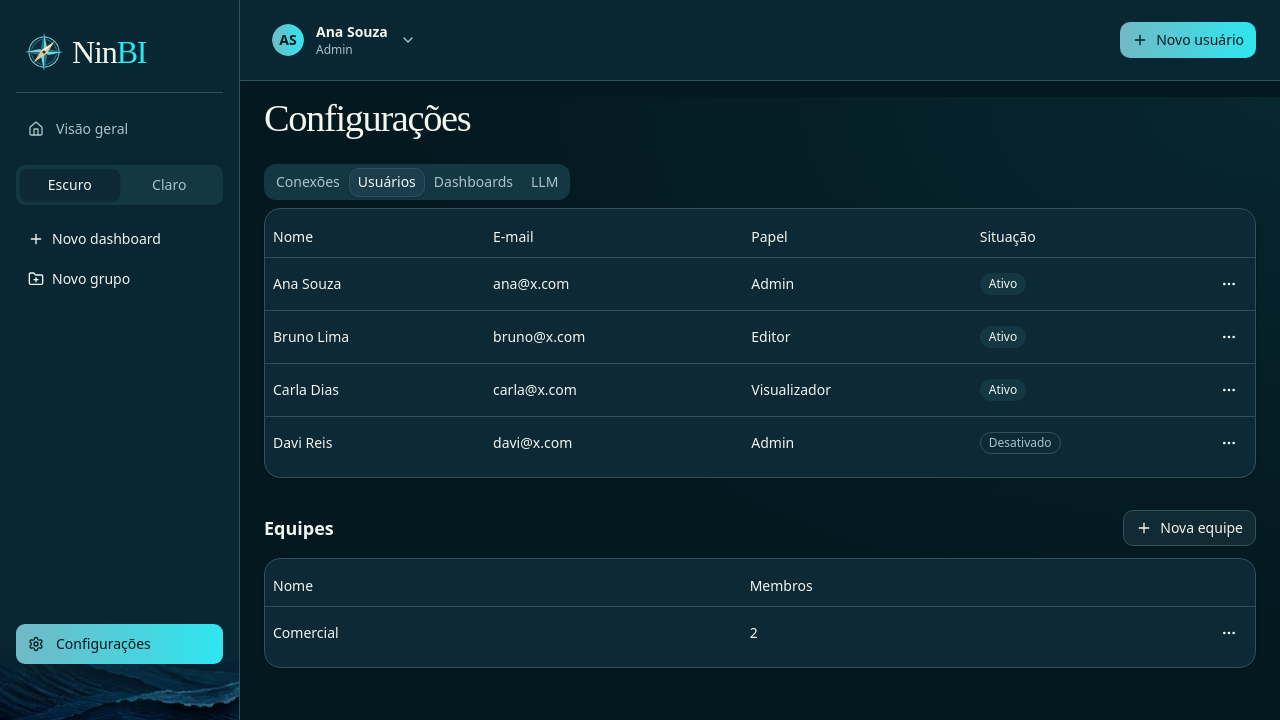
Test case: TeamDialog › TEAM-05 Editar equipe envia os membros marcados
Click the button named "Ações da equipe Comercial".
click(1229, 633)  # box top-left (1211, 615), bottom-right (1247, 651)
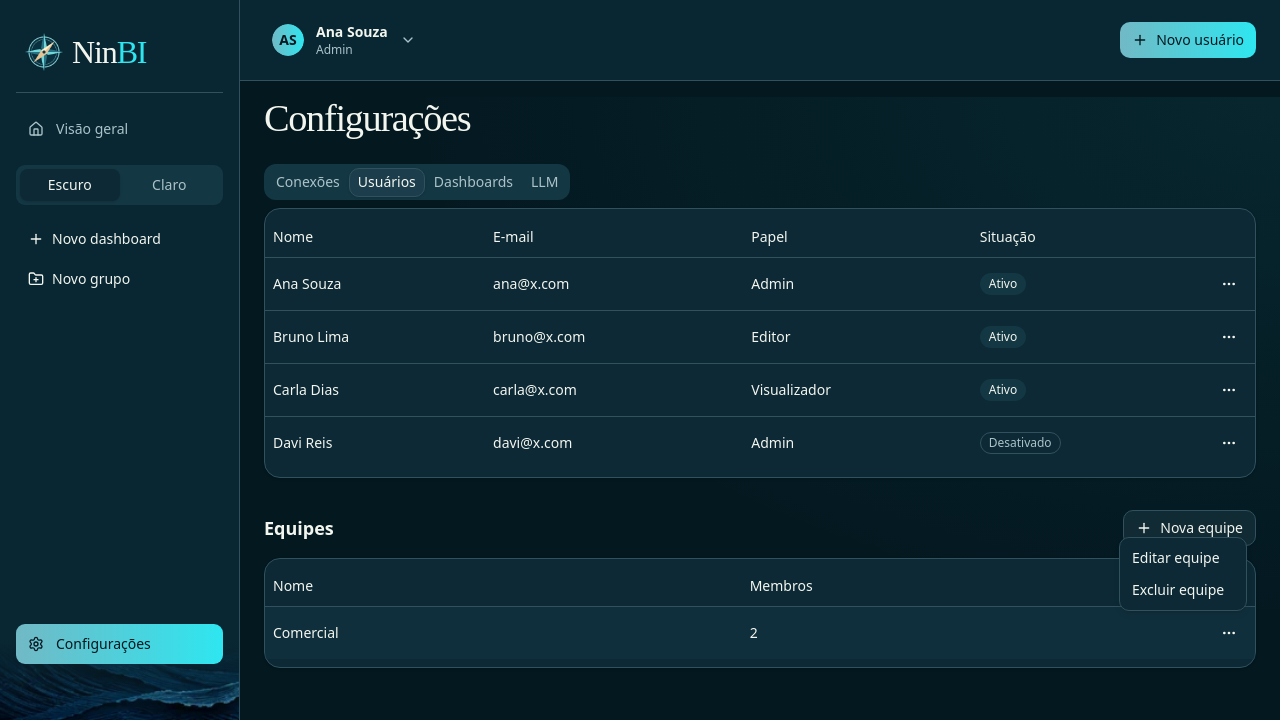
Click the menu item "Editar equipe".
click(1176, 558)  # box top-left (1132, 548), bottom-right (1220, 567)
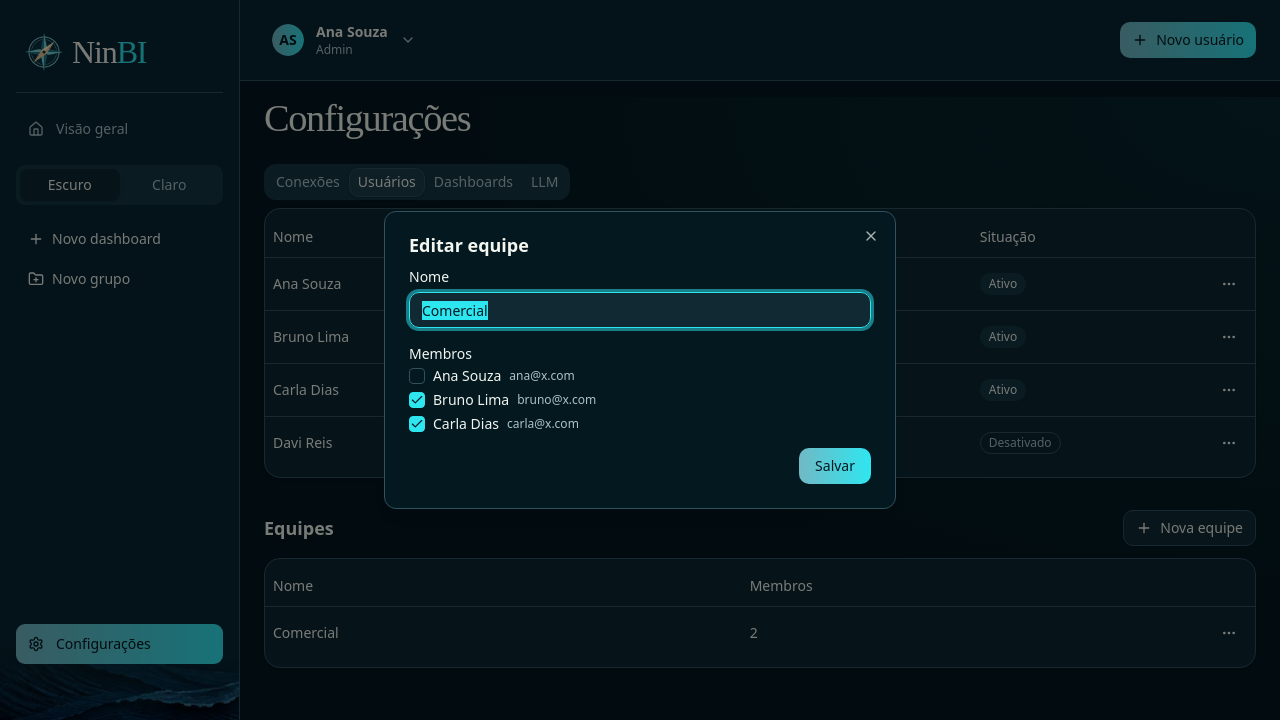
Now the 2nd checkbox named "Bruno Lima" is checked
Now the 3rd checkbox named "Carla Dias" is checked, box top-left (409, 416), bottom-right (425, 432)
Click the 2nd checkbox named "Bruno Lima".
click(417, 400)  # box top-left (409, 392), bottom-right (425, 408)
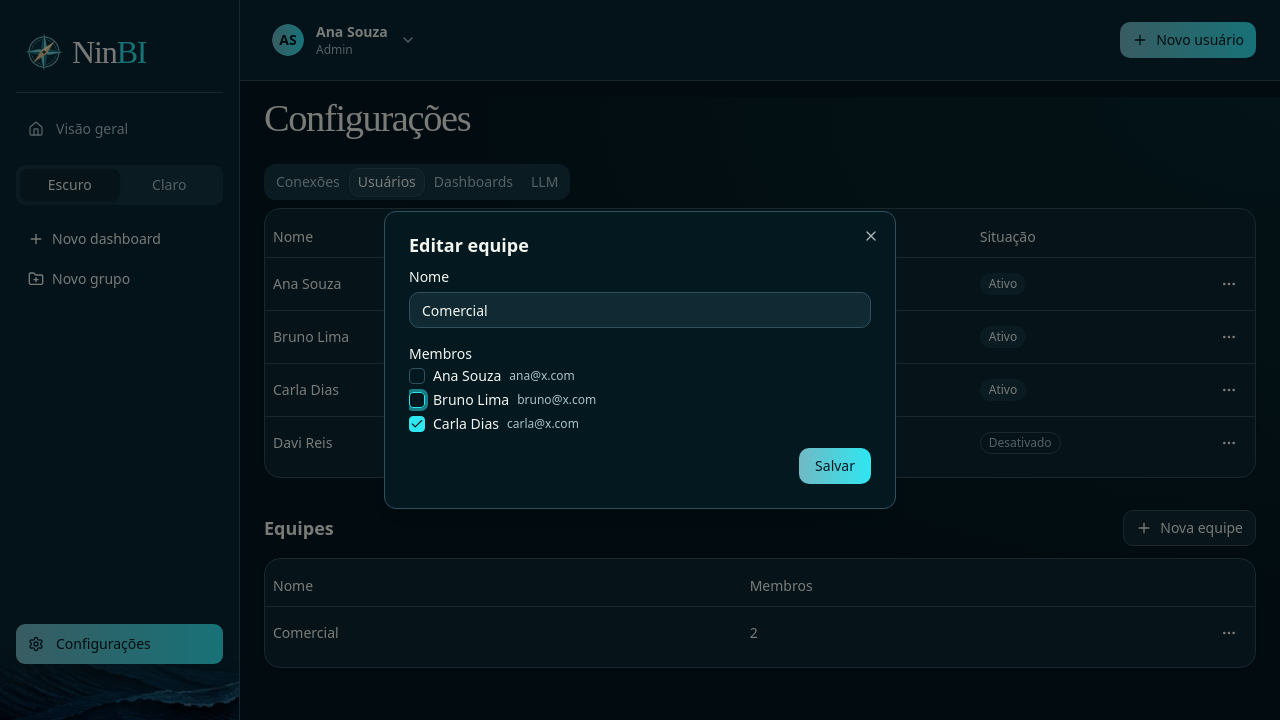
Click the button "Salvar".
click(835, 466)  # box top-left (799, 448), bottom-right (871, 484)
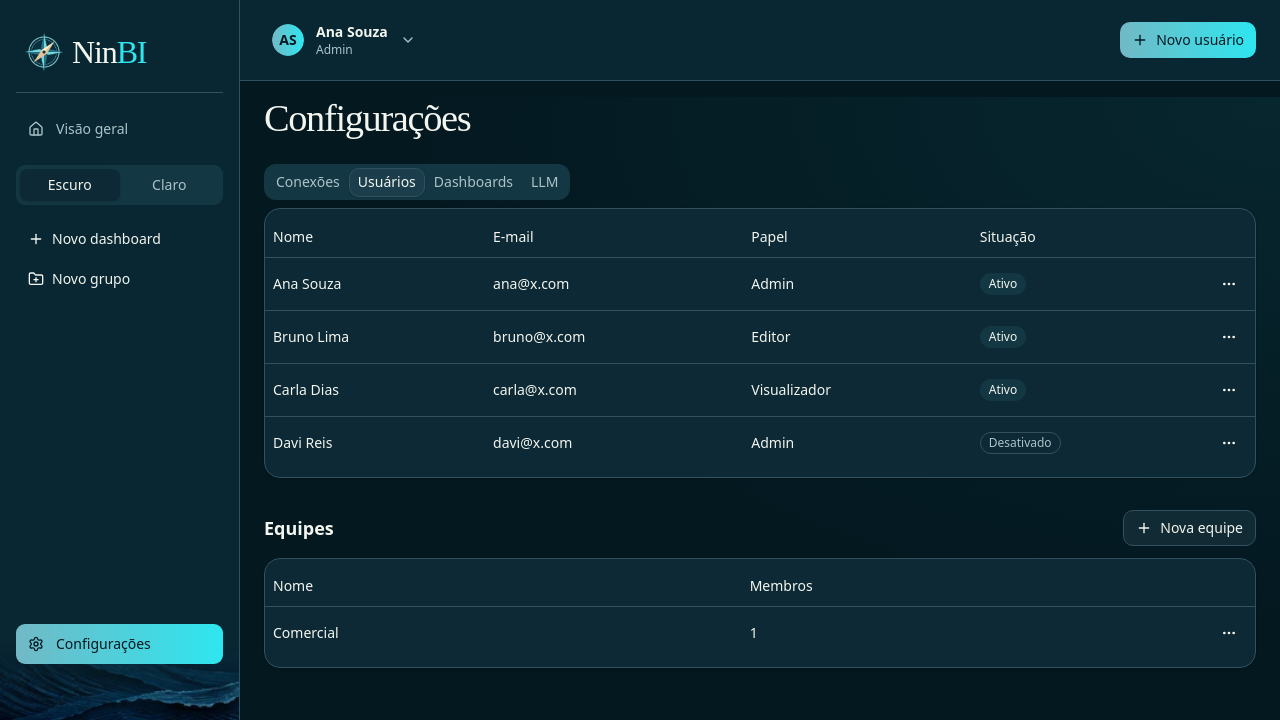
Now the cell "1" is shown, box top-left (742, 606), bottom-right (1203, 659)
